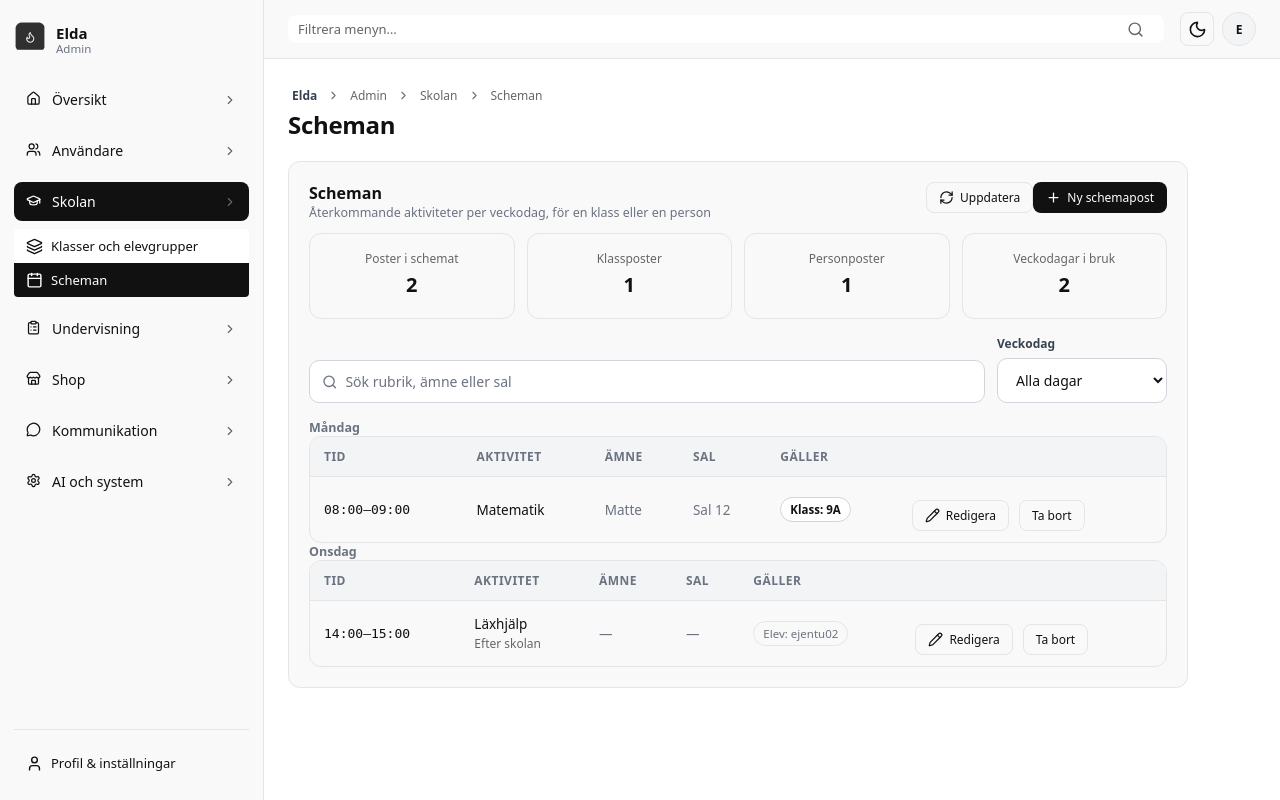
scheman › filtrerar schemat på veckodag
Expected: the text "Matematik" is shown, [462,476,591,542]
Select "Onsdag" in the dropdown named "Filtrera på veckodag": point(1082, 380) [997,358,1167,403]
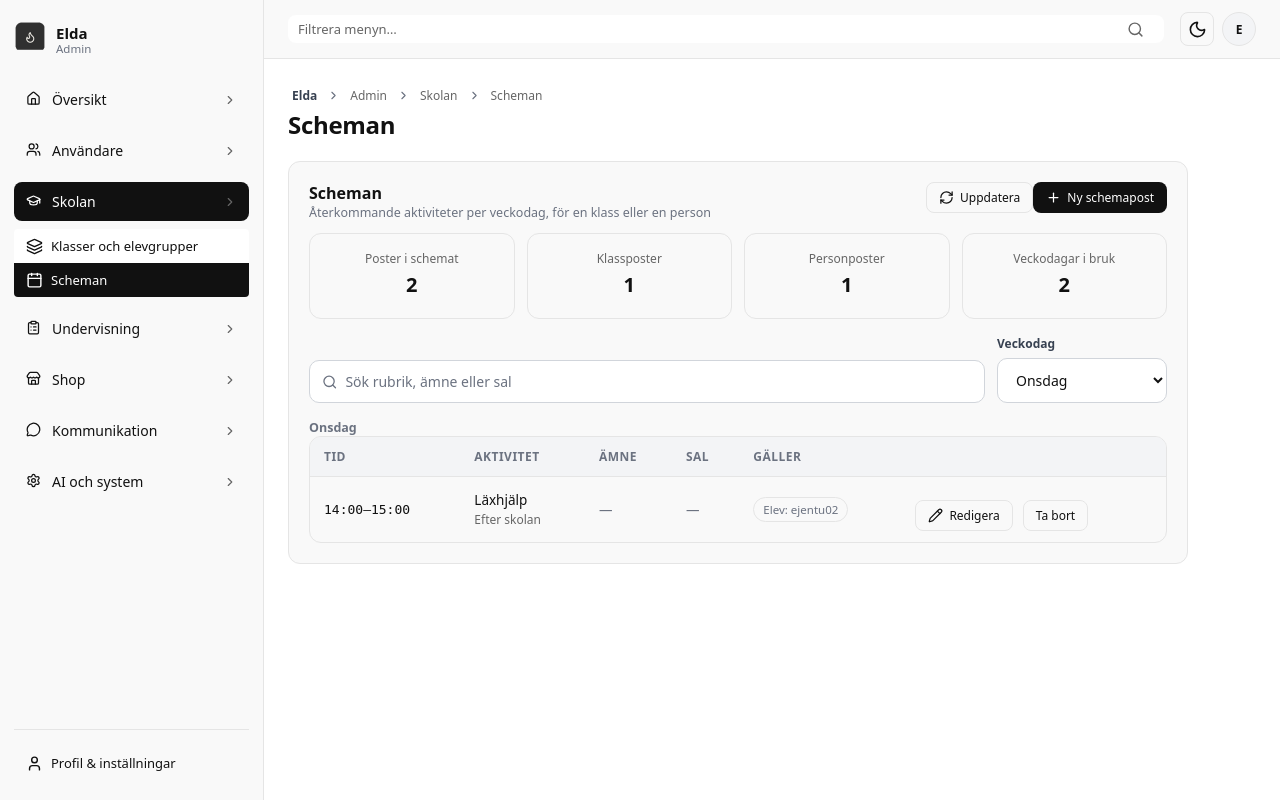
Expected: the text "Läxhjälp" is shown, [474,491,527,509]
Result: the text "Matematik" is gone
